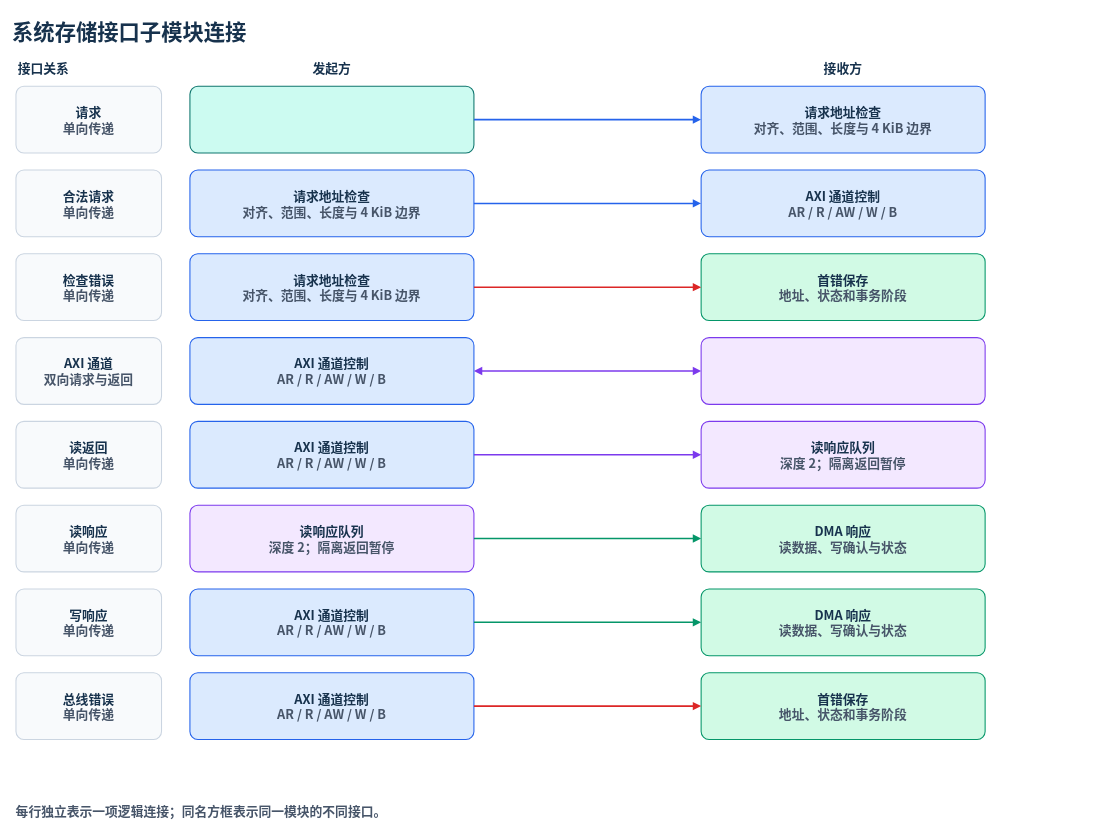
Image size: 1103x831. Some labels were removed from this diagram. The shapes that lost their labels are listed below. From the top down, each one's centre as x and y in pixels, then its label:
the point at 331,119: DMA 全局存储请求 物理地址、读写和多拍长度
the point at 842,371: 64-bit AXI 主接口 连接 SoC AXI 互连
